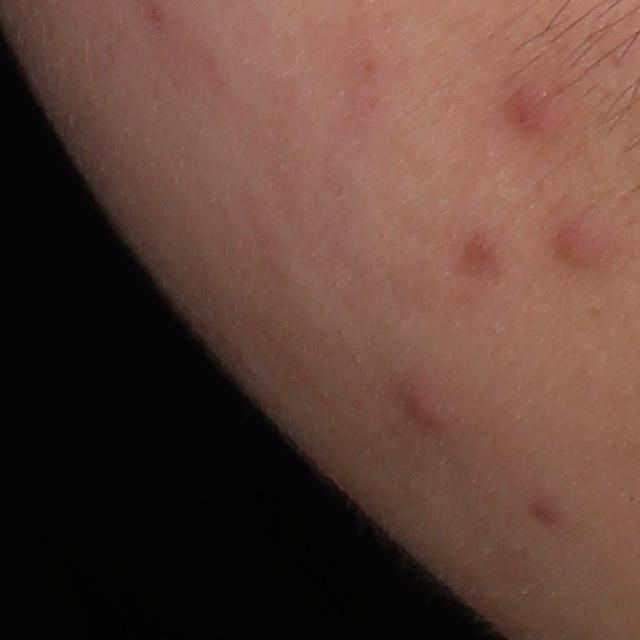papule: (506, 85, 559, 138), (553, 228, 614, 270), (403, 386, 452, 431)
